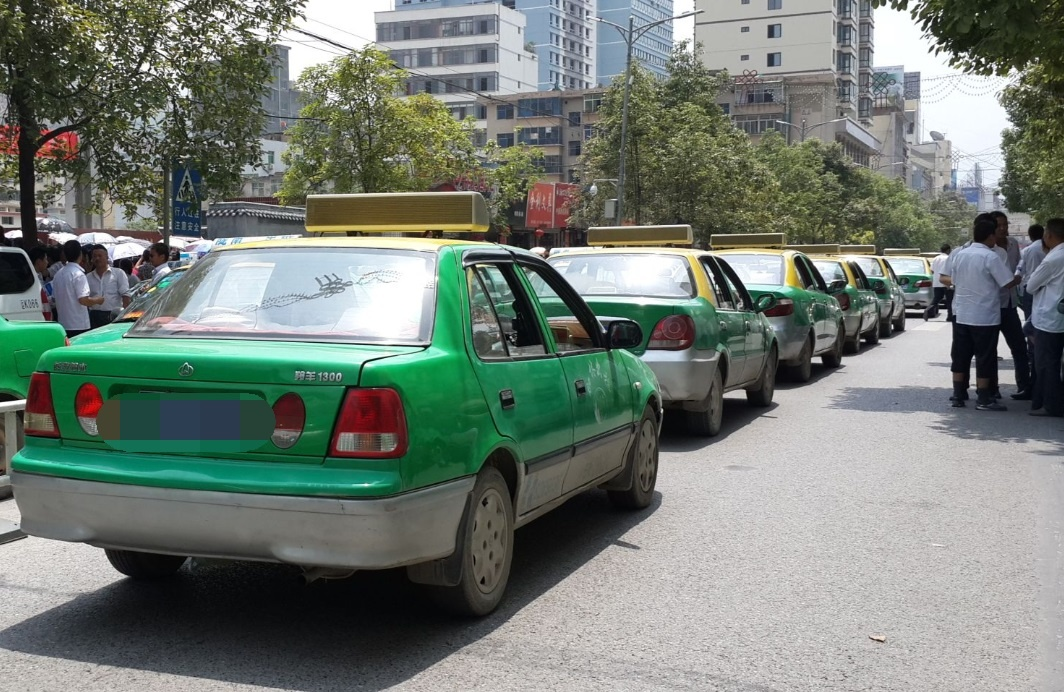taxi: (26, 191, 663, 617)
